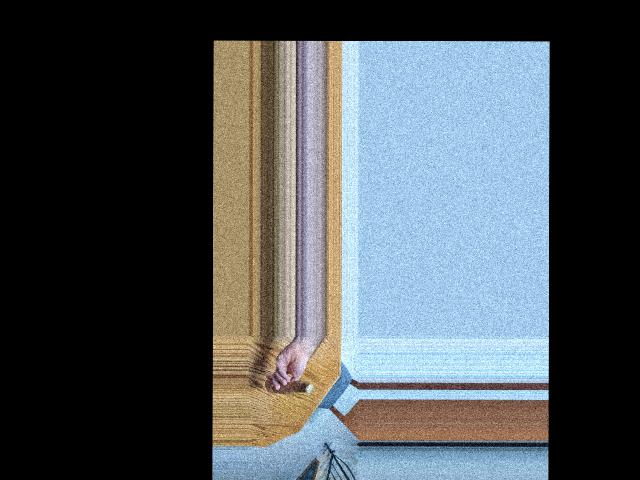sweet_potato: (264, 375, 314, 394)
